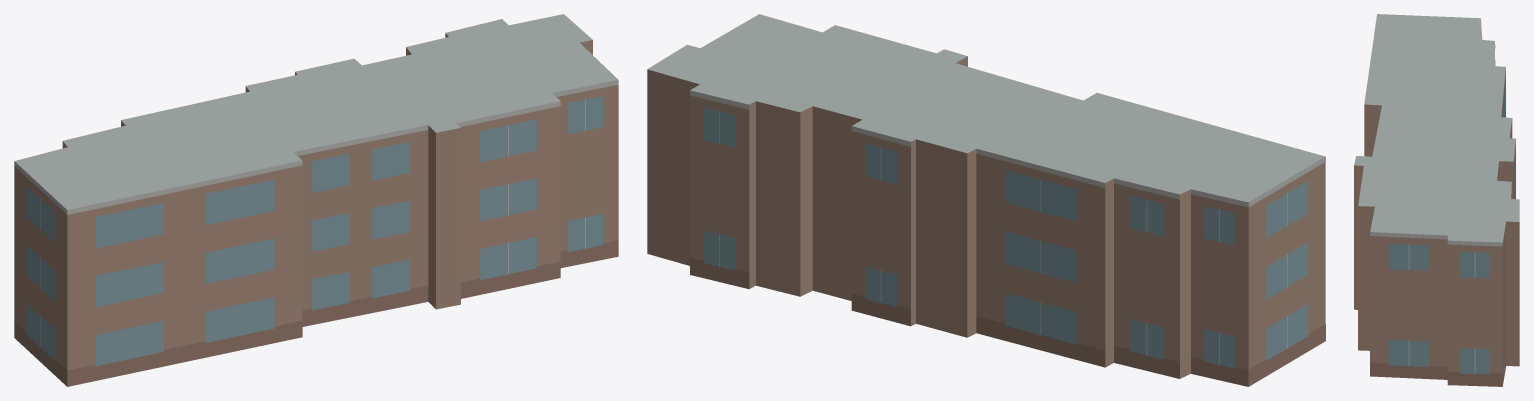
Rendered from survey-upis-32756095.glb.
The picture shows the model from 3 angles, left to right: view 1: azimuth 30°, elevation 25°; view 2: azimuth 150°, elevation 25°; view 3: azimuth 270°, elevation 25°; orthographic projection. The views are drawn at different scales.
Visible parts, largest first — view 1: survey-upis-32756095.tmp; view 2: survey-upis-32756095.tmp; view 3: survey-upis-32756095.tmp.
Boxes of the visible parts, left/top/right/bottom form: survey-upis-32756095.tmp: left=14, top=14, right=618, bottom=386; survey-upis-32756095.tmp: left=647, top=14, right=1325, bottom=386; survey-upis-32756095.tmp: left=1354, top=14, right=1519, bottom=386.
Bounding box in the file's own units: 30.22 × 8.9 × 9.26.
